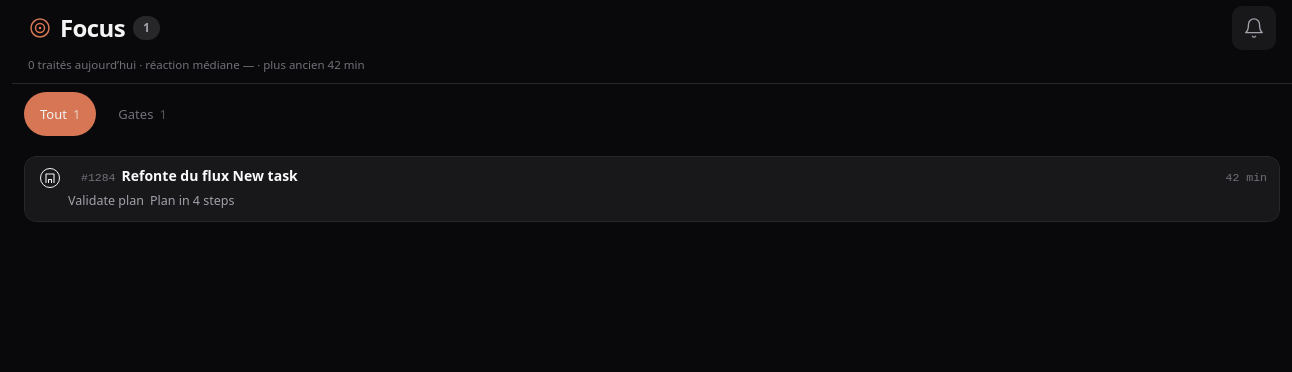
it: MobileFocus › swiping left uncovers "1 h"; snoozing takes a tap on it
Press the mouse on the text "Refonte du flux New task": [189, 176] box [81, 166, 298, 185]
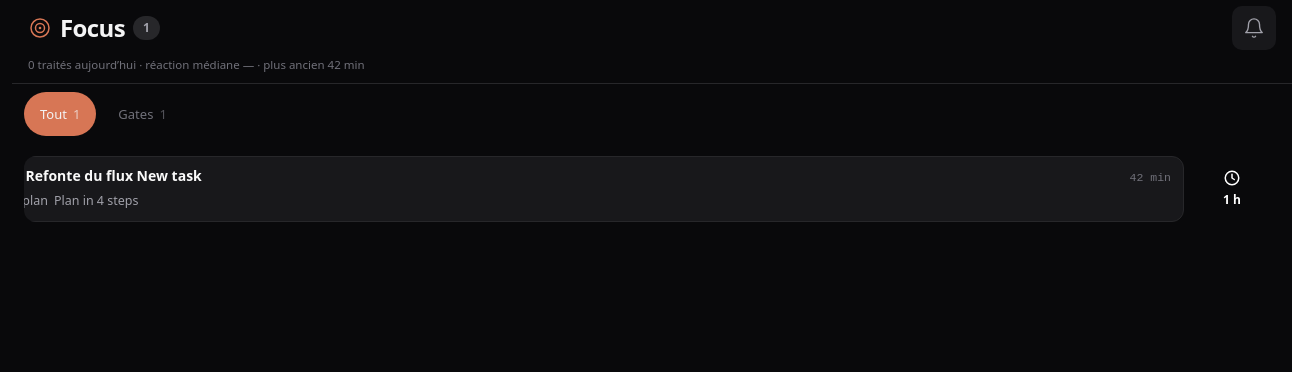
Click the button named "Plus tard : 1 h": [1232, 189] box [1184, 156, 1280, 222]
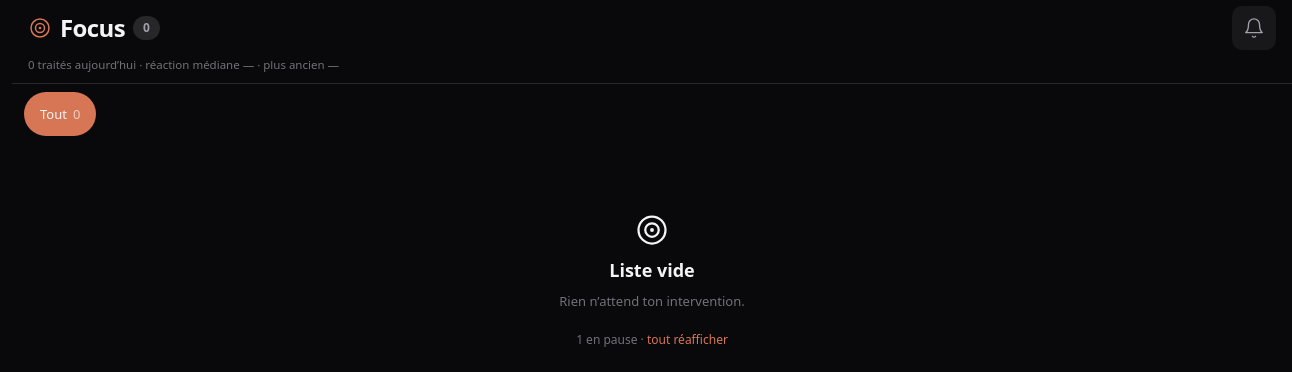
Now the text "1 en pause · tout réafficher" is shown, box [576, 324, 728, 356]
